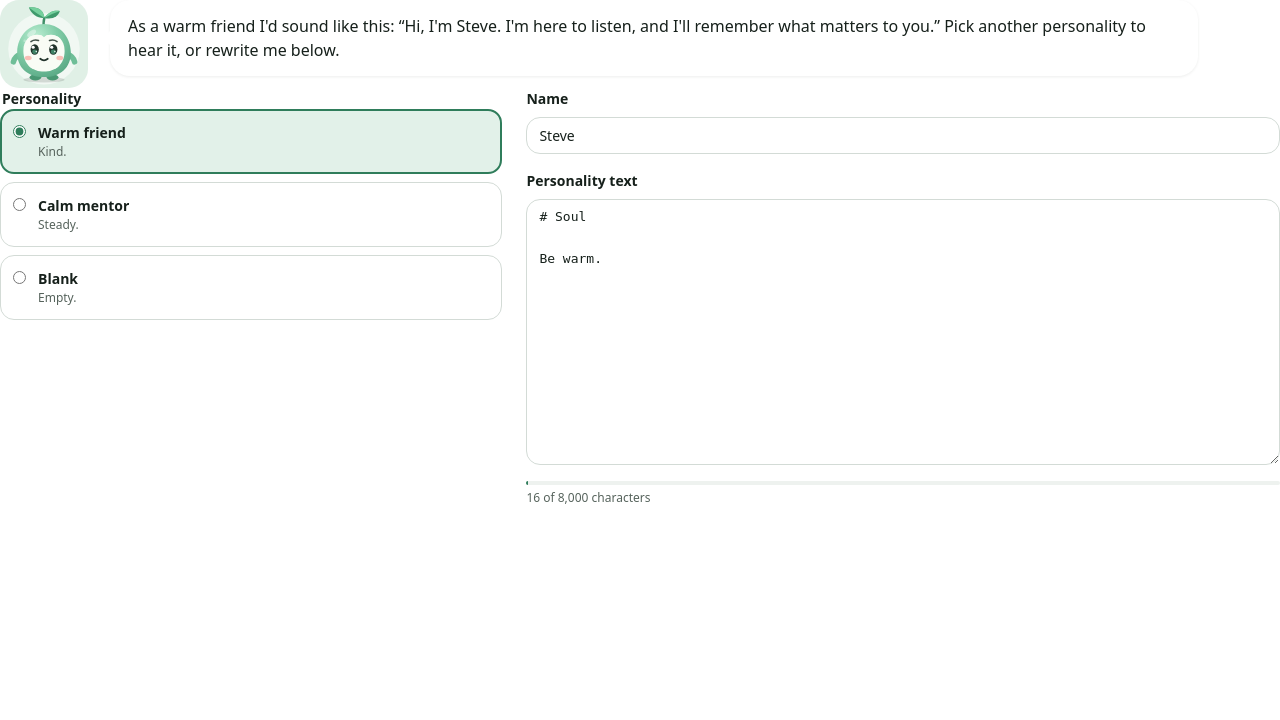
Test: SoulStep › asks before a template switch discards edits
Later steps or results of the test are not shown.
Click the radio button labelled "Calm mentor Steady." at (20, 204), box x1=13 y1=198 x2=26 y2=211
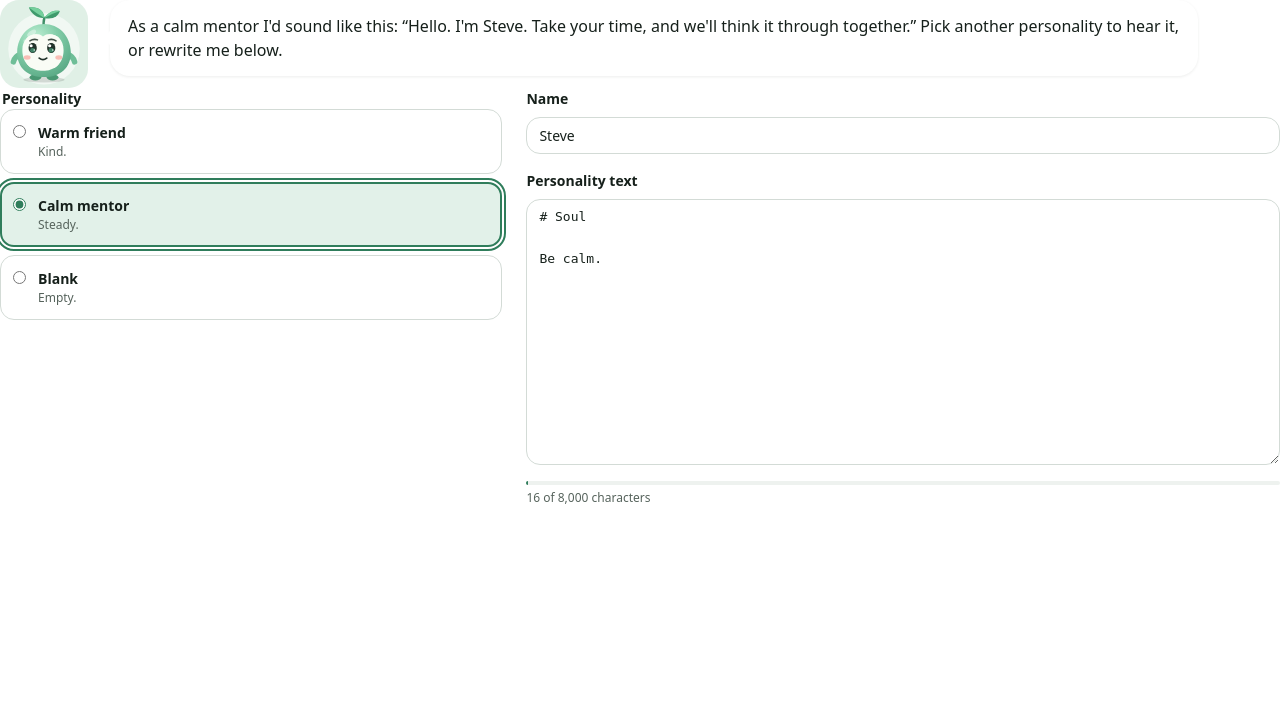
Expected: the 1st message shows "As a calm mentor I'd sound like this: “Hello. I'm Steve.", x1=128 y1=15 x2=1179 y2=61
Type " Mine." into the text box labelled "Personality text" at (903, 332), box x1=526 y1=199 x2=1279 y2=465
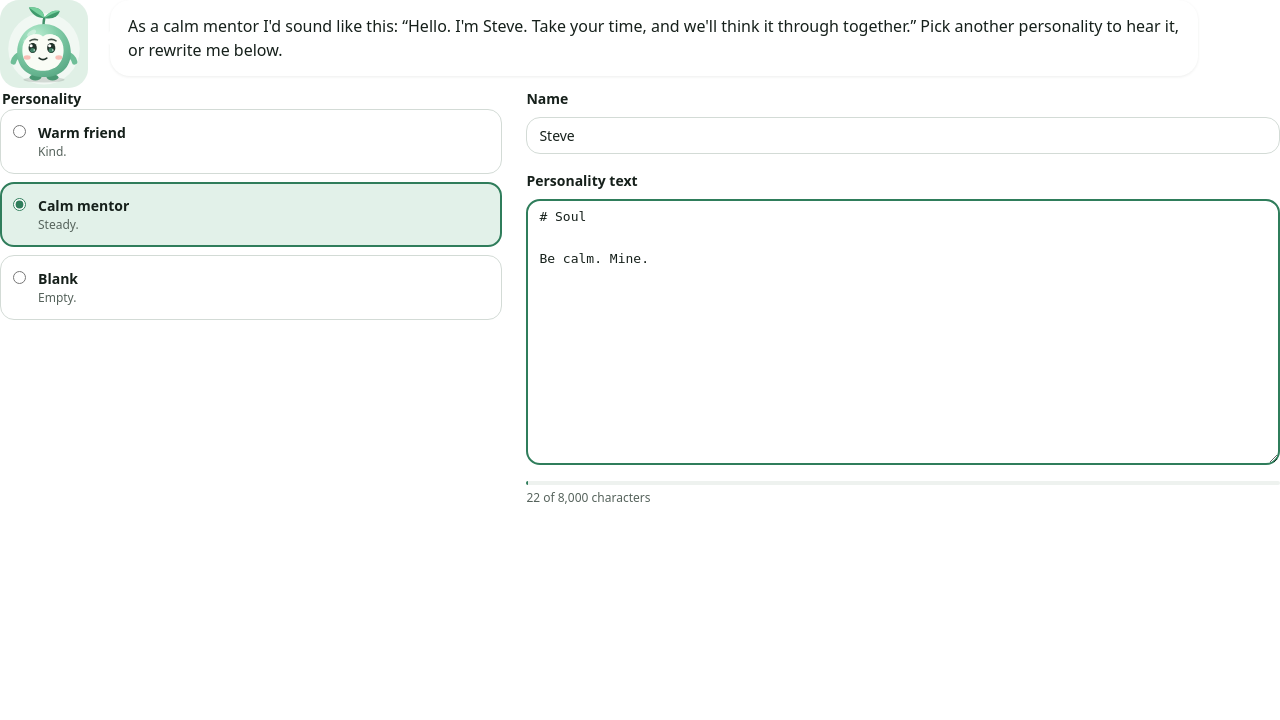
Click the radio button labelled "Warm friend Kind." at (20, 132), box x1=13 y1=125 x2=26 y2=138
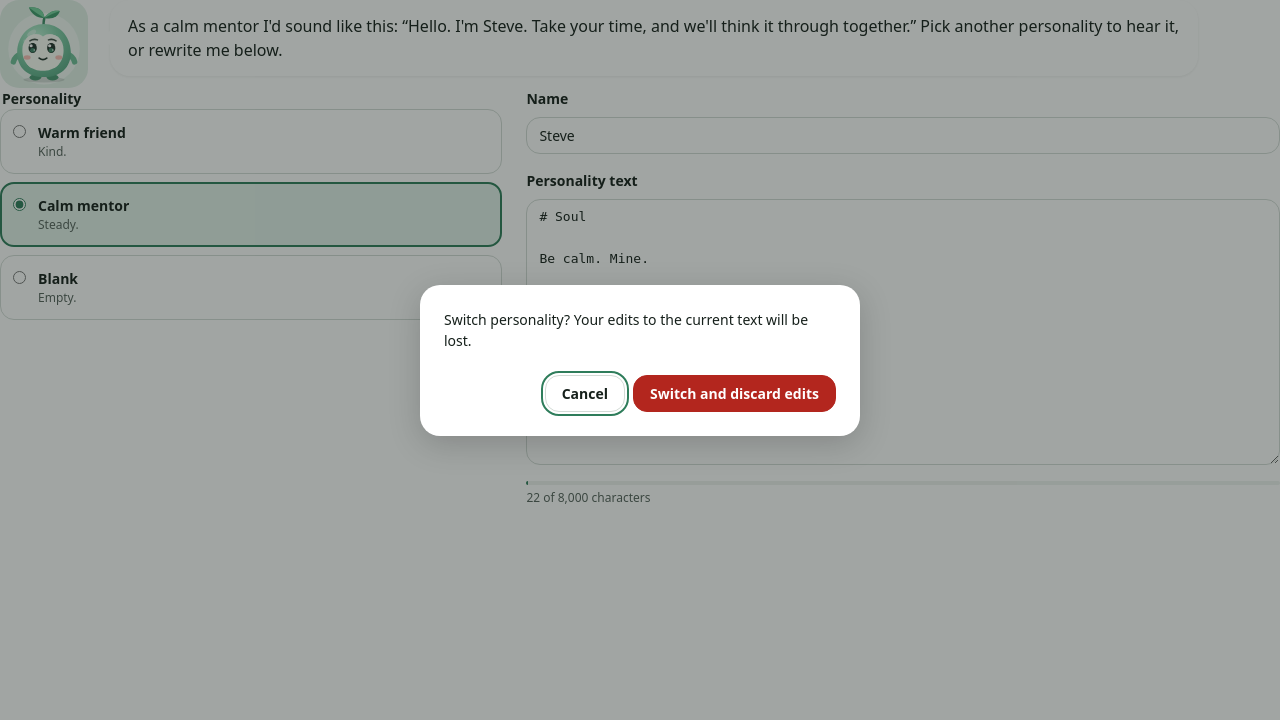
Expected: the dialog is shown, x1=420 y1=284 x2=860 y2=436
